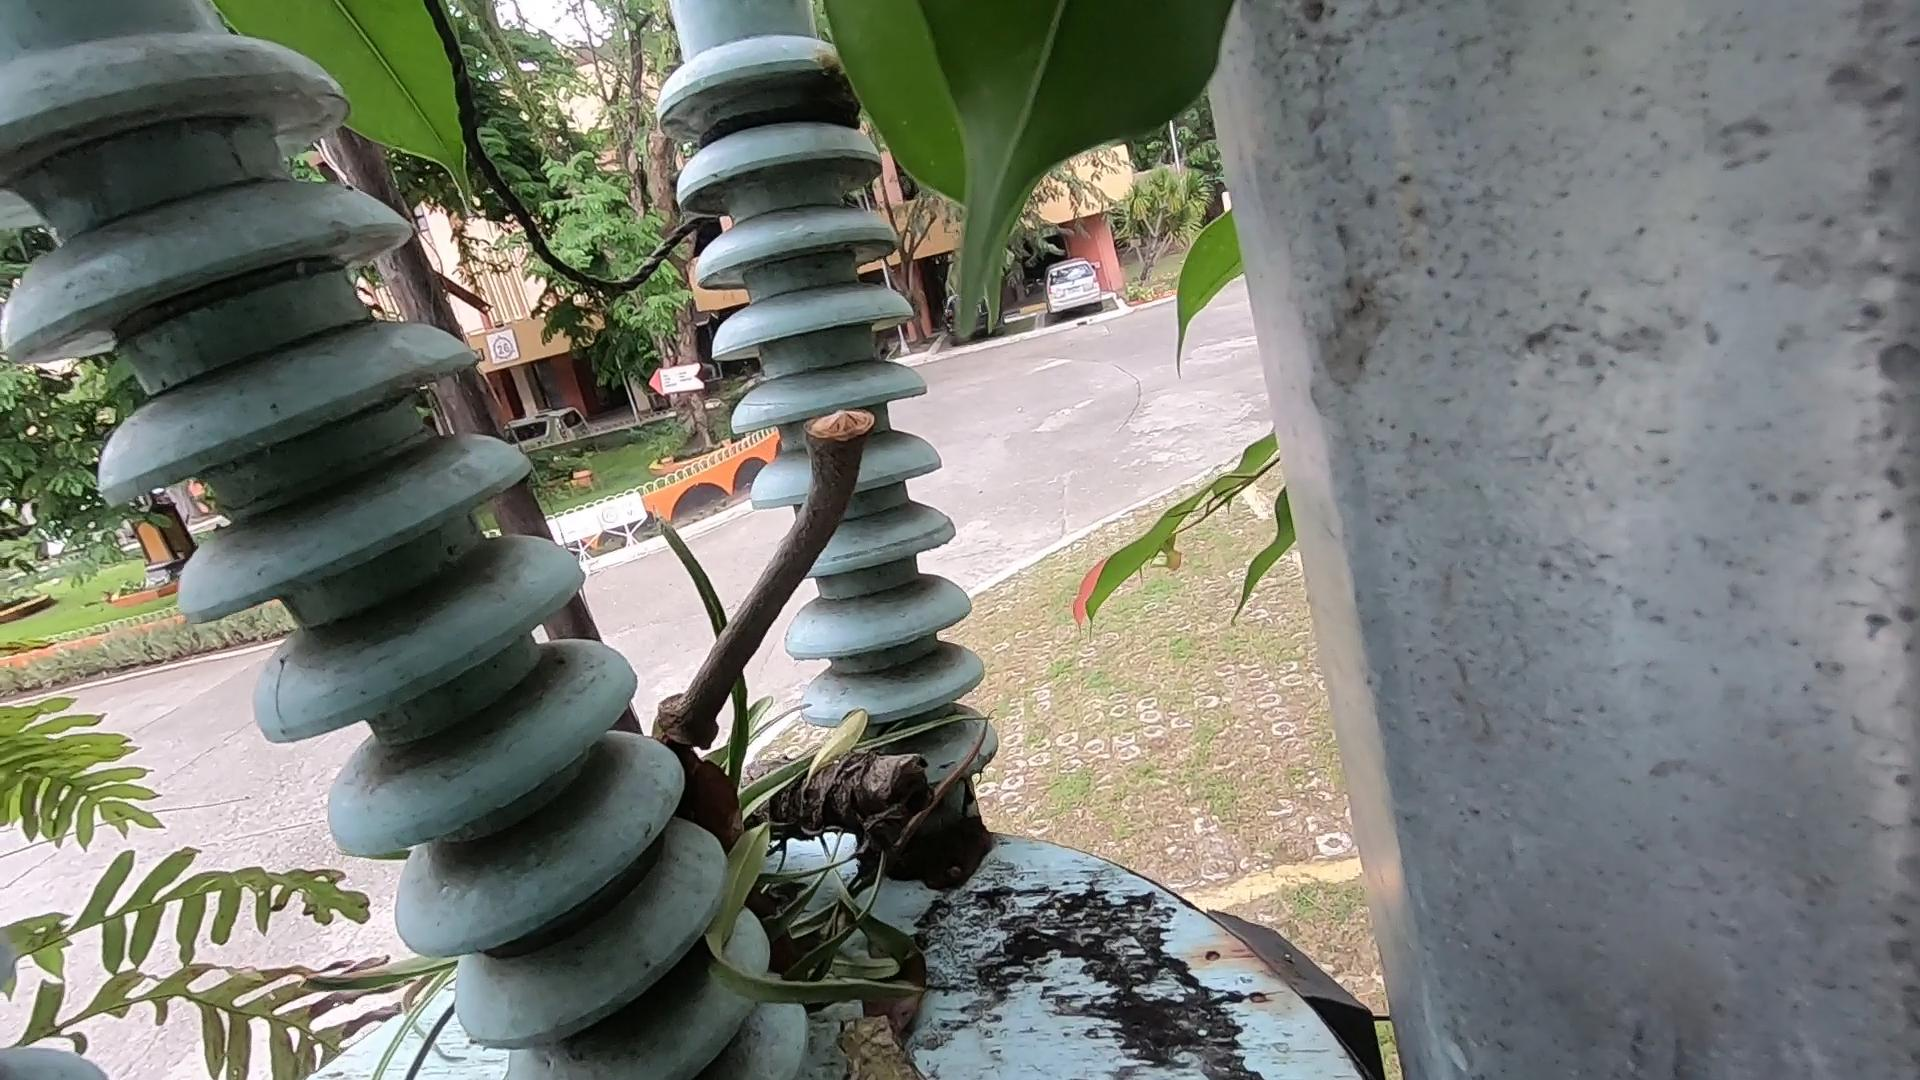branch with leaves: (687, 703, 986, 1080)
tree branch: (607, 313, 889, 800)
